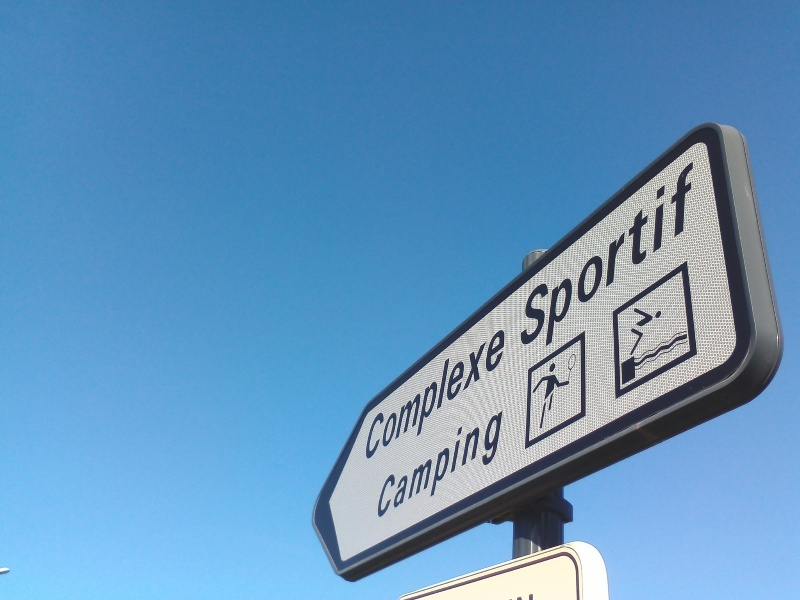text: (689, 156, 705, 368), (529, 156, 544, 368), (545, 156, 560, 368), (561, 156, 576, 368), (577, 156, 592, 368), (593, 156, 608, 368), (609, 156, 624, 368), (625, 156, 640, 368), (641, 156, 656, 368), (657, 156, 672, 368), (673, 156, 688, 368), (385, 313, 400, 477), (401, 313, 416, 477), (417, 313, 432, 477), (433, 313, 448, 477), (449, 313, 464, 477), (465, 313, 480, 477), (481, 313, 496, 477), (497, 313, 512, 477), (370, 313, 384, 477), (519, 156, 528, 368), (385, 401, 400, 526), (401, 401, 416, 526), (417, 401, 432, 526), (433, 401, 448, 526), (449, 401, 464, 526), (465, 401, 480, 526), (481, 401, 496, 526), (497, 401, 508, 526), (379, 401, 384, 526), (513, 313, 514, 477)
